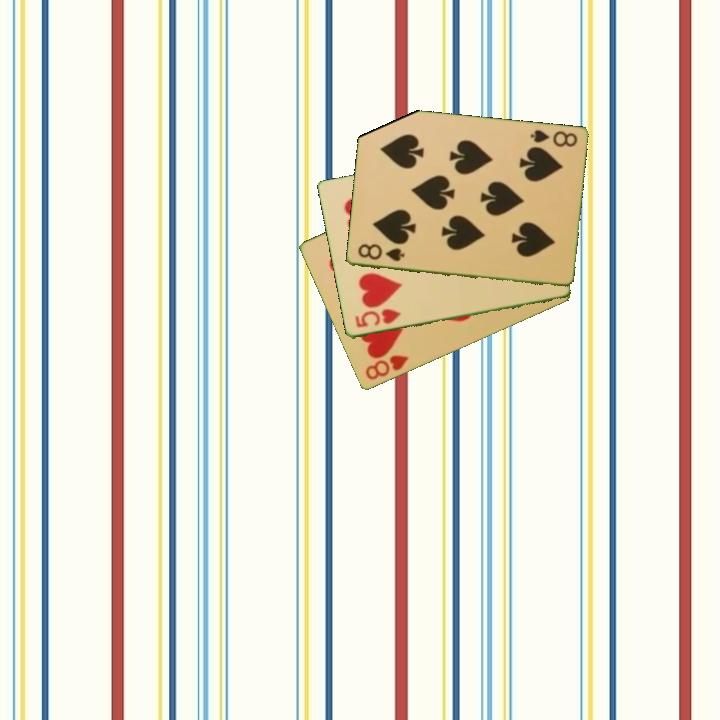5h: (351, 306, 403, 331)
8h: (362, 352, 411, 383)
8s: (354, 241, 407, 265), (527, 127, 580, 150)
